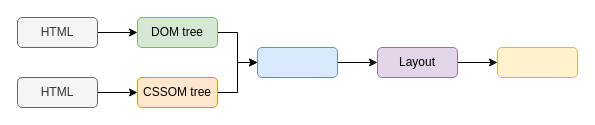
Image size: 595x125. Some labels were removed from this diagram. Each missing label, with the centre of its shape:
Paint: the point at 537,62
Render tree: the point at 297,62
